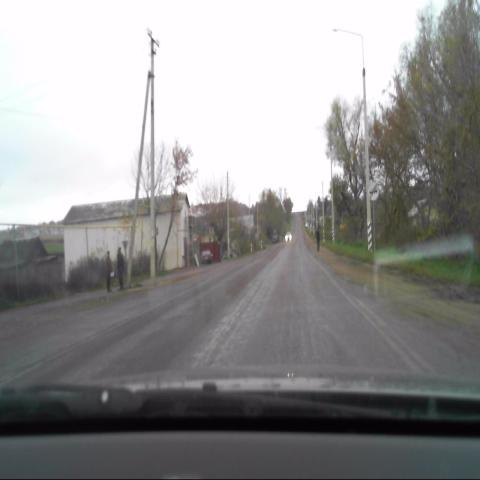3_21: (366, 180, 379, 203)
